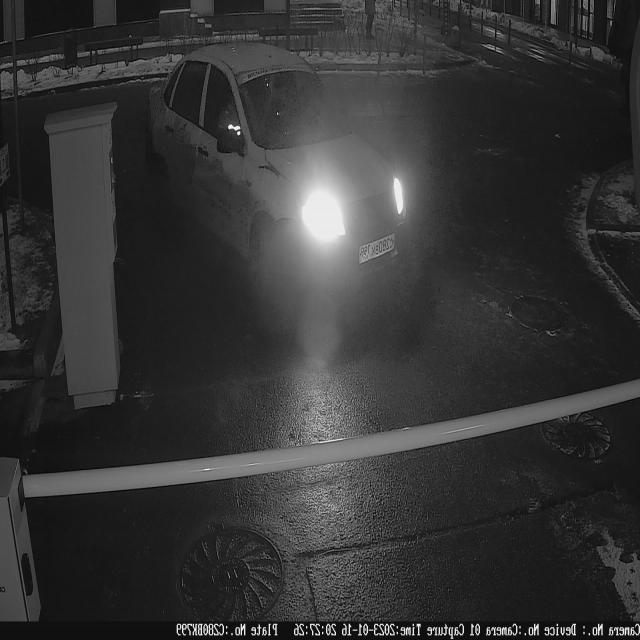car-plate-numbers: (358, 232, 399, 268)
